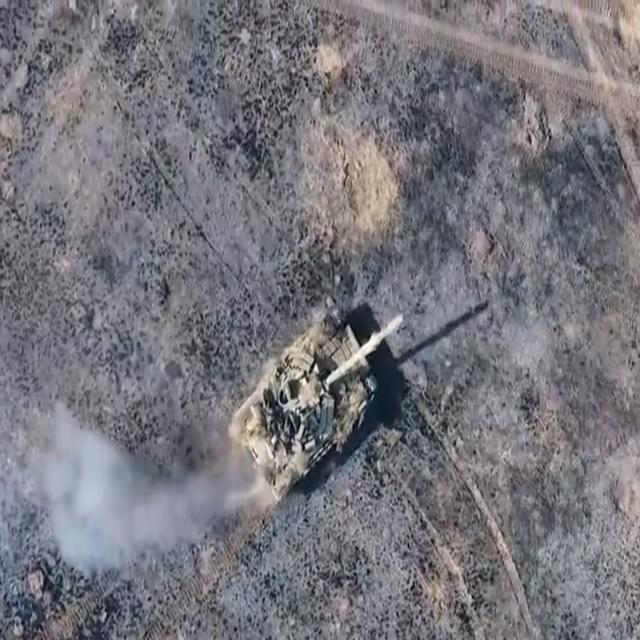tank: (230, 303, 417, 504)
